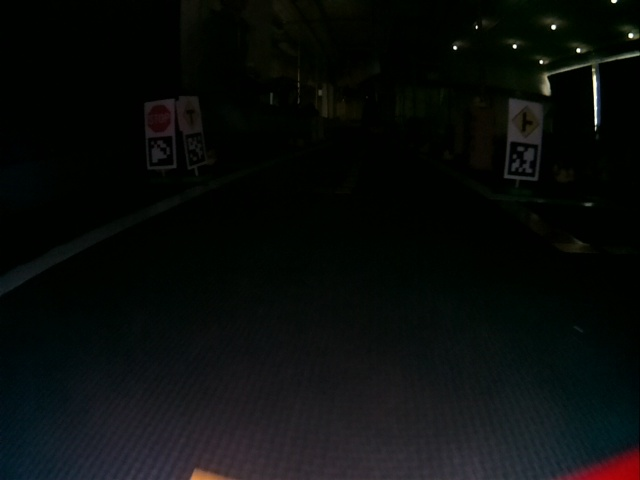Intersection sign: (512, 105, 540, 138), (182, 99, 201, 131)
QR code: (507, 144, 538, 177), (148, 138, 175, 167), (185, 134, 206, 167)
Stop sign: (145, 102, 174, 131)
